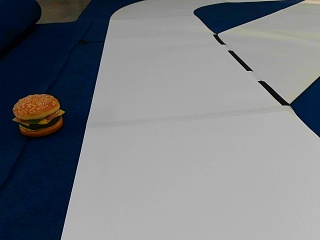burger: (12, 94, 65, 138)
